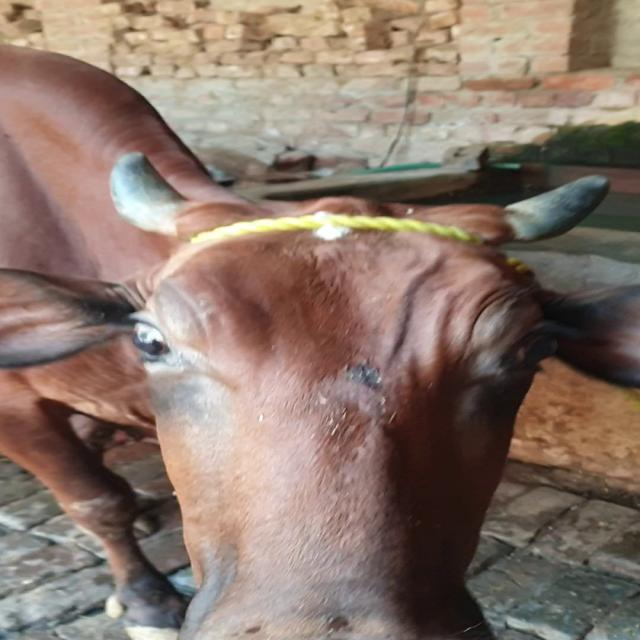cowFace: (127, 196, 560, 640)
